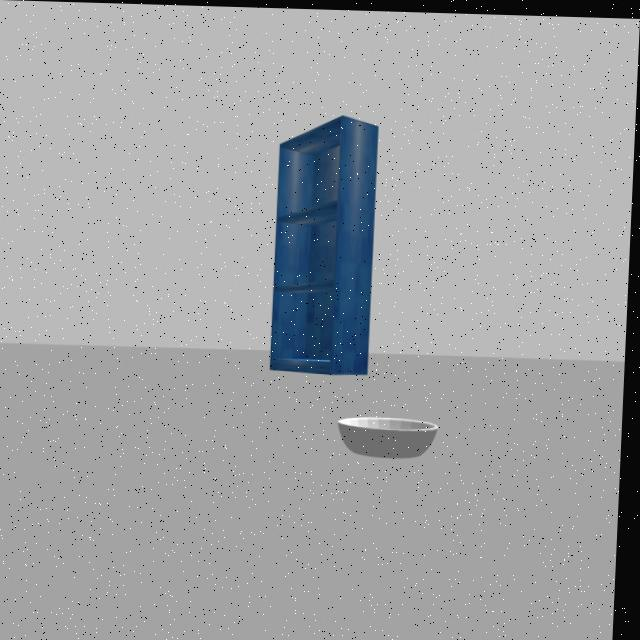bowl: (336, 401, 450, 469)
shelf: (261, 108, 384, 380)
